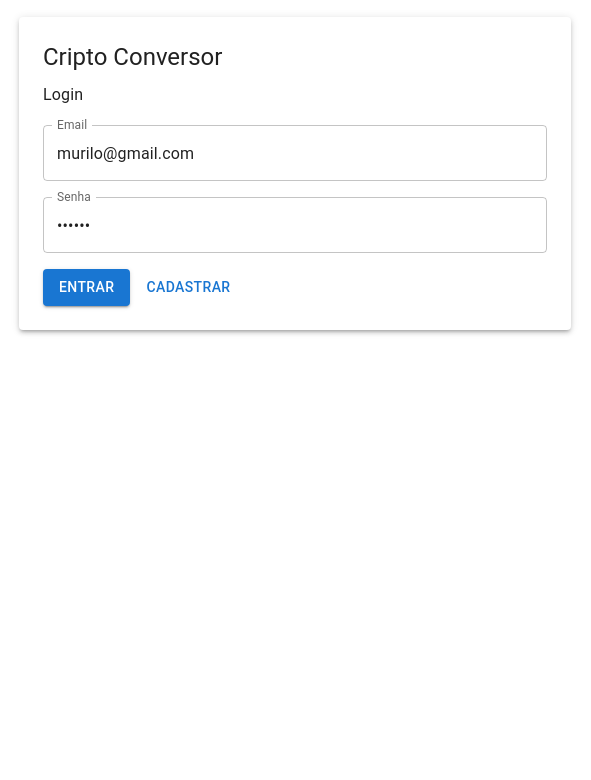
Test: App - Fluxo de Login › exibe estado logado e persiste dados após login
What coordinates should you click on to do the following:
click the button "Entrar"
I would click on:
 (87, 288)
Its box is [43,269,130,306].
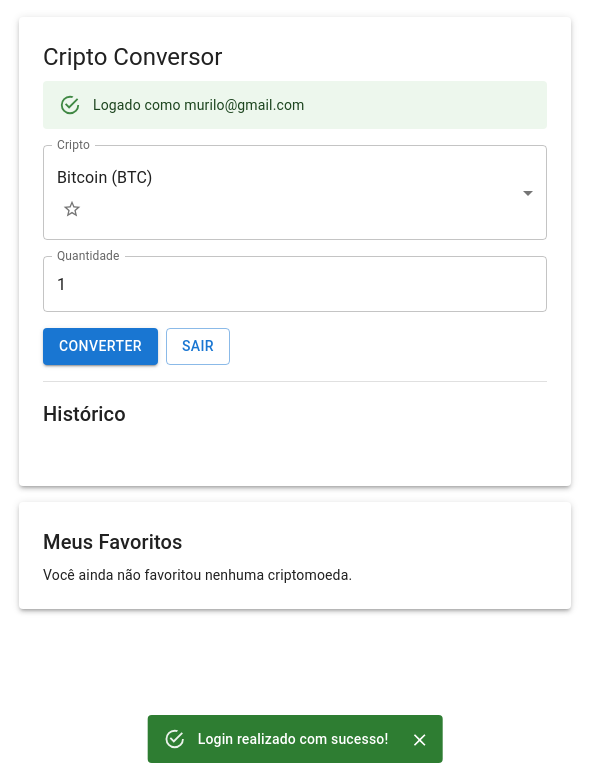
expect the text "Logado como murilo@gmail.com" is shown: met, box [93,97,305,113]
